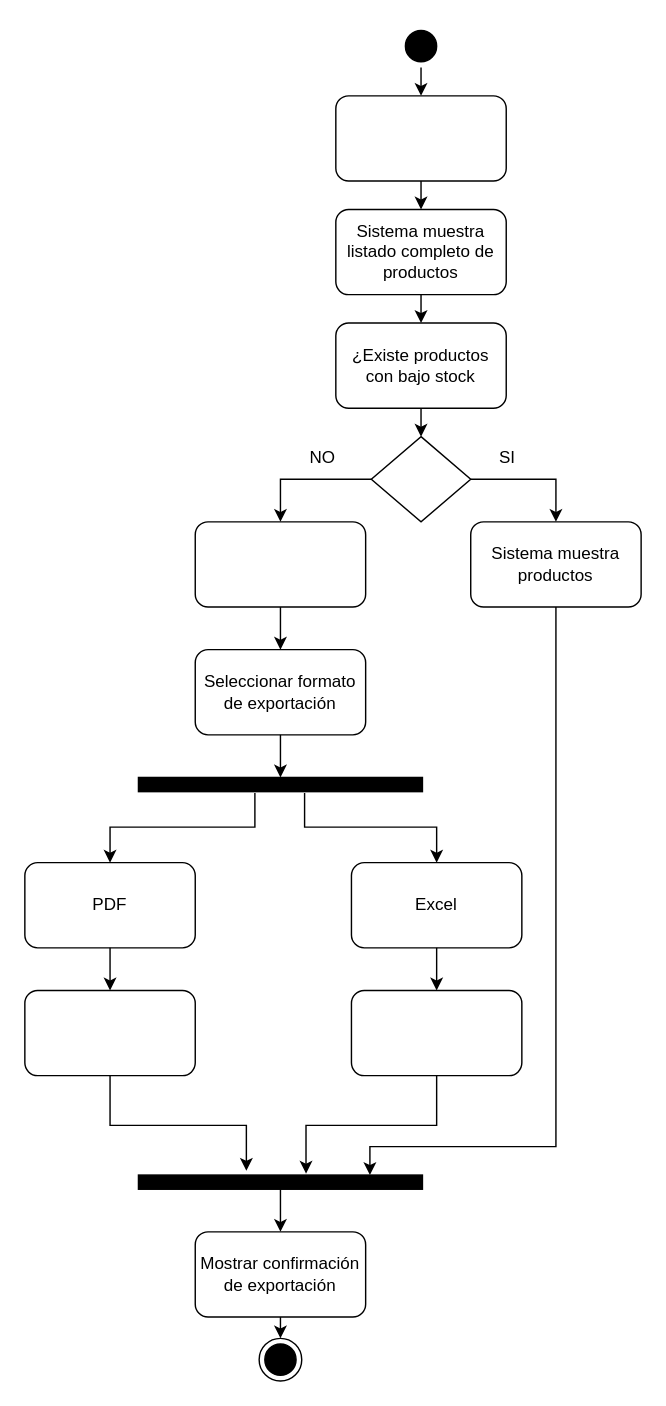
Image size: 666x1406. Some labels were removed from this diagram. The centre of each missing label's shape, as x and y in pixels:
Dar clic en "Exportar reporte": point 280,563
Dar clic en "Reporte de inventario": point 420,137
Sistema genera y descarga al formato: point 109,1032
Sistema genera y descarga el archivo: point 436,1032
